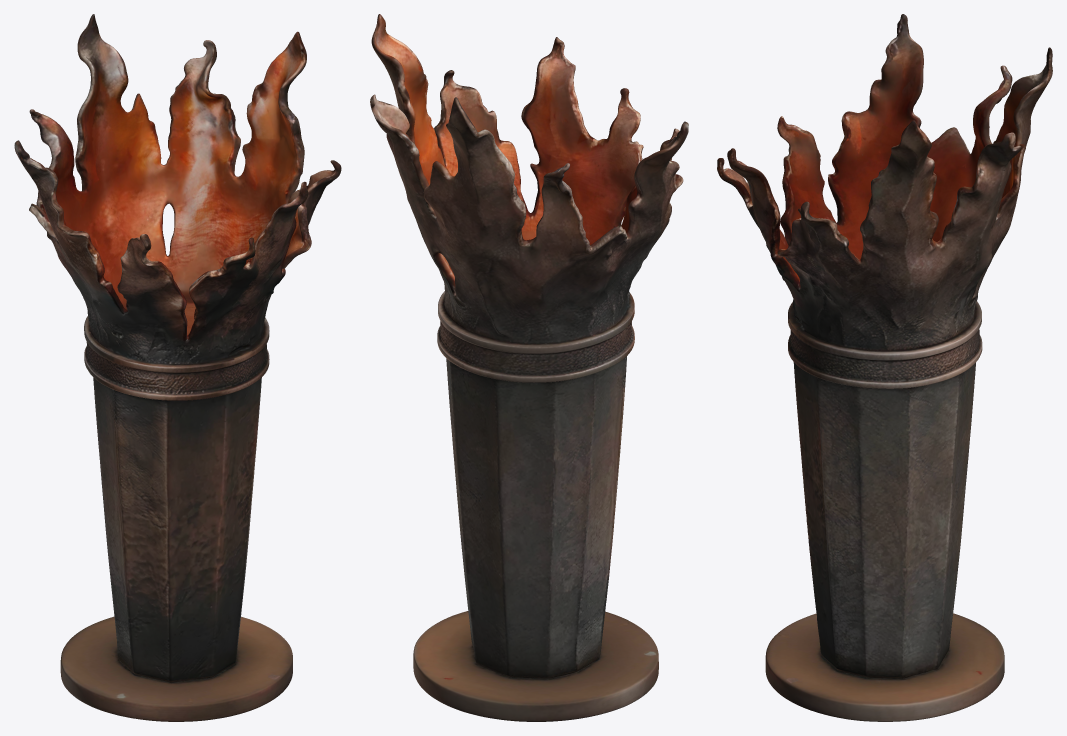
The picture shows the model from 3 angles, left to right: view 1: azimuth 30°, elevation 25°; view 2: azimuth 150°, elevation 25°; view 3: azimuth 270°, elevation 25°; orthographic projection. The views are drawn at different scales.
Parts seen in each view (by area): view 1: tripo_node_e203bcd4-7022-42db-9d6d-ebf53a22dab7; view 2: tripo_node_e203bcd4-7022-42db-9d6d-ebf53a22dab7; view 3: tripo_node_e203bcd4-7022-42db-9d6d-ebf53a22dab7.
Part boxes in pixels (x1,y1,x2,y2): tripo_node_e203bcd4-7022-42db-9d6d-ebf53a22dab7: (14,14,341,721); tripo_node_e203bcd4-7022-42db-9d6d-ebf53a22dab7: (370,14,688,721); tripo_node_e203bcd4-7022-42db-9d6d-ebf53a22dab7: (717,14,1052,721).
Size of the model in its own units: 0.4945 by 0.9788 by 0.4785.
1 material, 1 textured.
